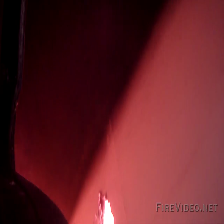fire_l: (102, 199, 115, 224)
